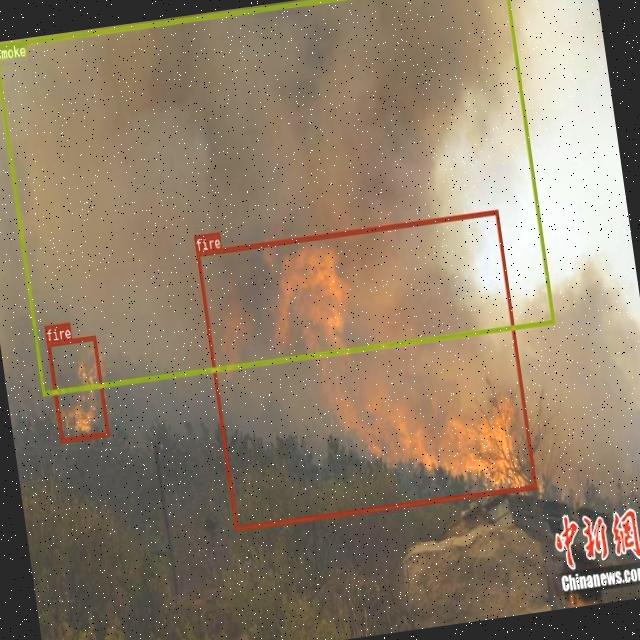fire: (196, 208, 537, 530), (46, 334, 110, 442)
smoke: (0, 0, 554, 395)
